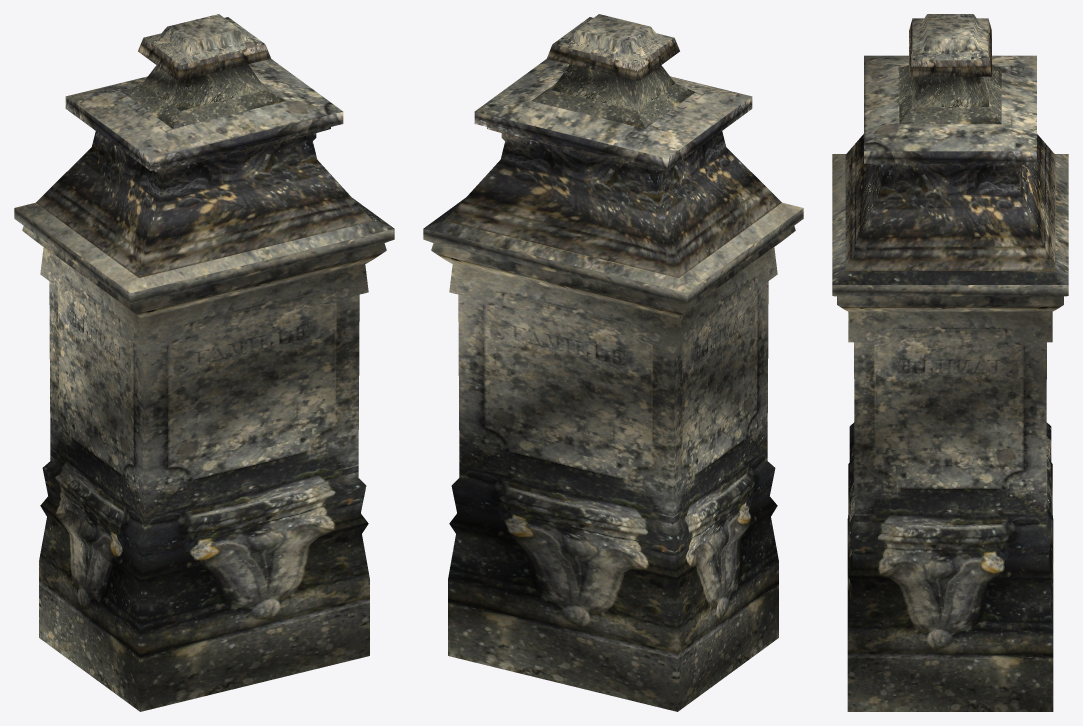
The model's file is gravestoneK.fbx.
3 views of the same model, side by side, from view 1: azimuth 30°, elevation 25°; view 2: azimuth 150°, elevation 25°; view 3: azimuth 270°, elevation 25° (orthographic).
Visible parts, largest first — view 1: U3DMesh; view 2: U3DMesh; view 3: U3DMesh.
Part boxes in pixels (x1,y1,x2,y2): U3DMesh: (14,14,394,711); U3DMesh: (423,14,803,711); U3DMesh: (832,14,1068,711).
Size of the model in its own units: 29.6 by 66.19 by 22.6.
